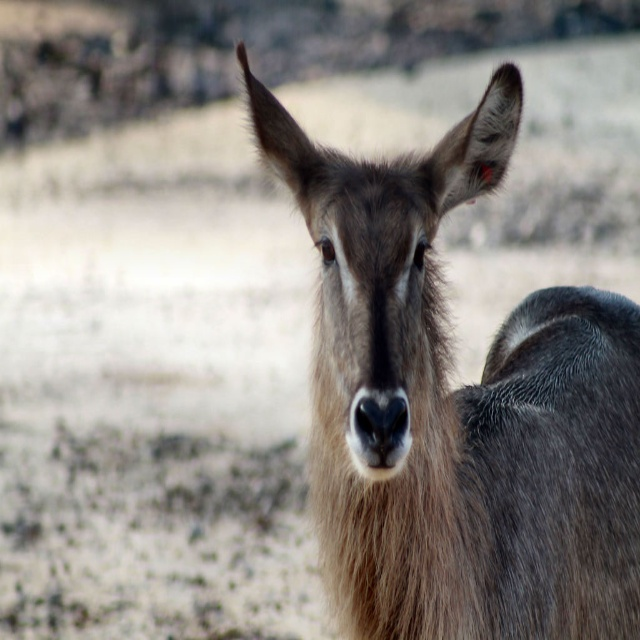Deer: (235, 34, 640, 639)
